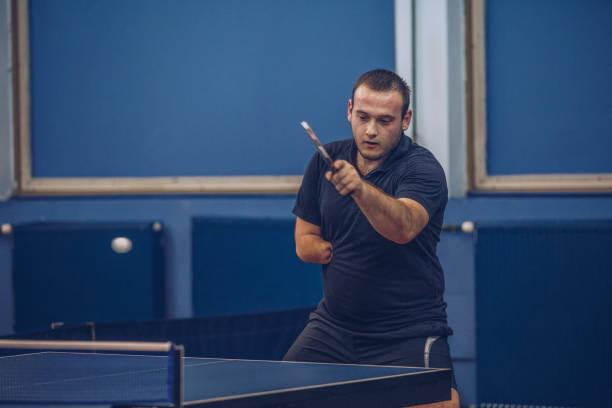ball_pingpong: (110, 234, 132, 254), (461, 219, 473, 233), (1, 223, 12, 234)
